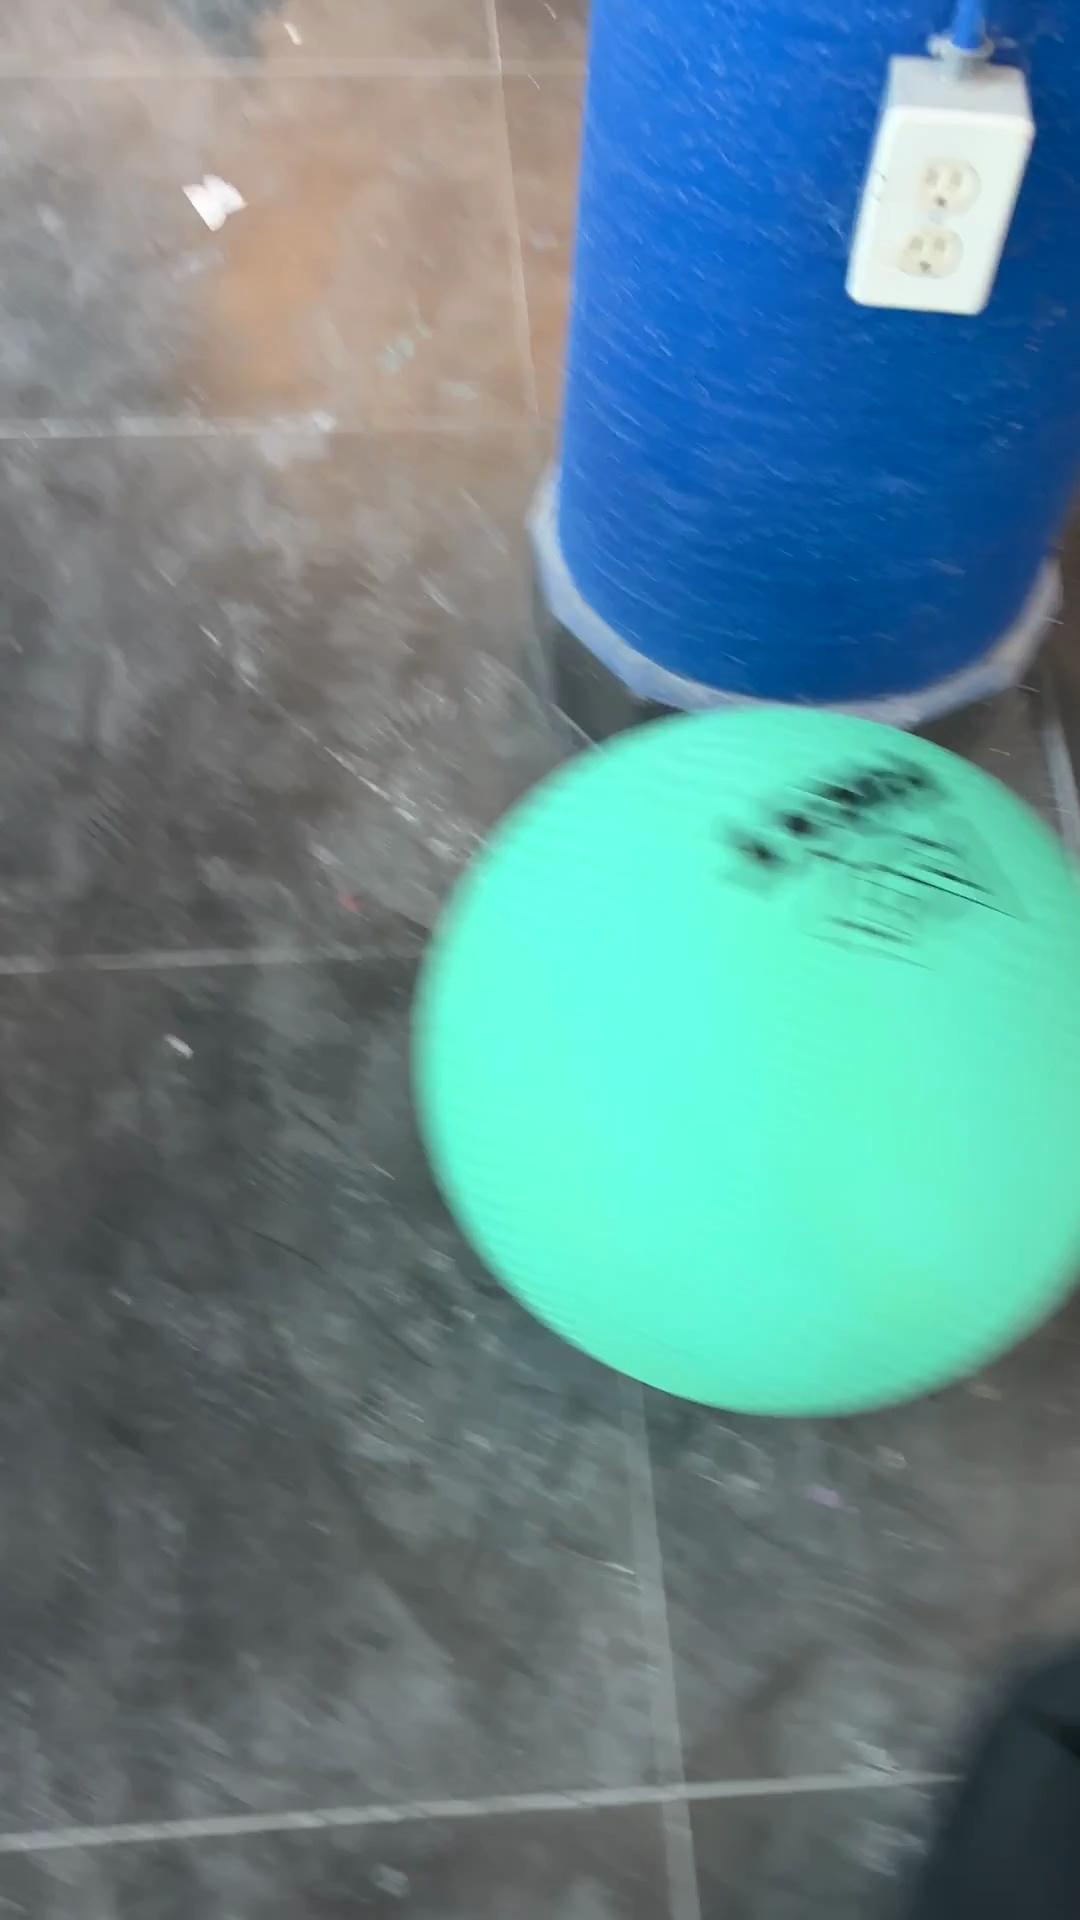ALGAE: (407, 700, 1077, 1422)
